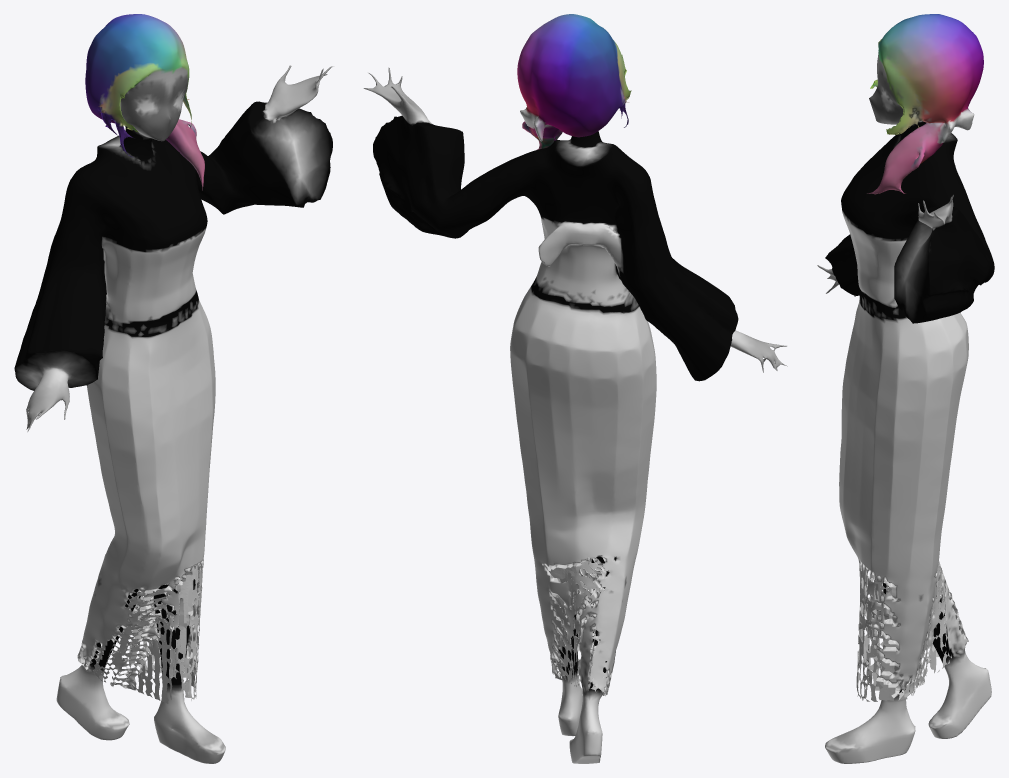
File: SK_Cartoon_31_H.FBX
3 renders of one model, left to right at view 1: azimuth 30°, elevation 25°; view 2: azimuth 150°, elevation 25°; view 3: azimuth 270°, elevation 25°, orthographic.
Visible parts, largest first — view 1: SK_Cartoon_Female_0310; view 2: SK_Cartoon_Female_0310; view 3: SK_Cartoon_Female_0310.
Part boxes in pixels (<box>): SK_Cartoon_Female_0310: <box>14,14,333,763</box>; SK_Cartoon_Female_0310: <box>363,14,787,763</box>; SK_Cartoon_Female_0310: <box>817,14,994,763</box>.
Bounding box in the file's own units: 88.16 × 167 × 36.87.
